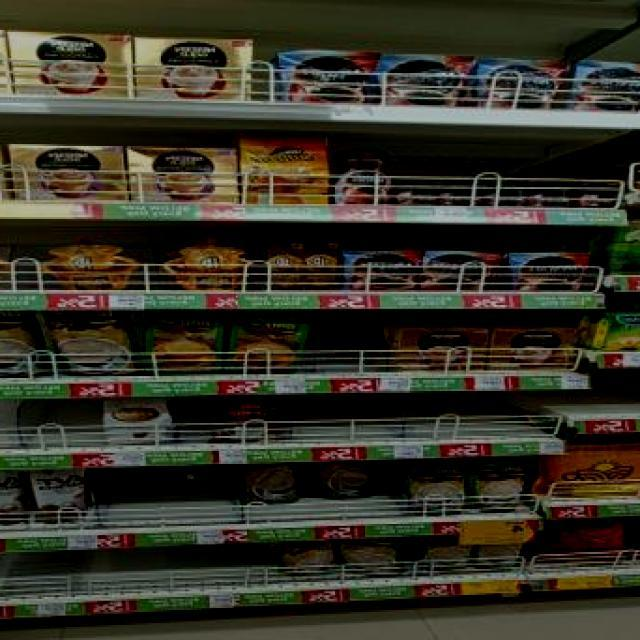Coffee: (243, 140, 329, 208), (284, 54, 370, 104), (378, 57, 464, 106), (485, 62, 561, 108), (334, 150, 391, 206), (426, 252, 496, 293), (517, 252, 587, 290), (580, 64, 640, 108), (349, 251, 416, 290), (530, 184, 576, 208), (582, 184, 624, 207), (486, 184, 526, 207), (398, 183, 438, 204), (444, 184, 482, 204)
